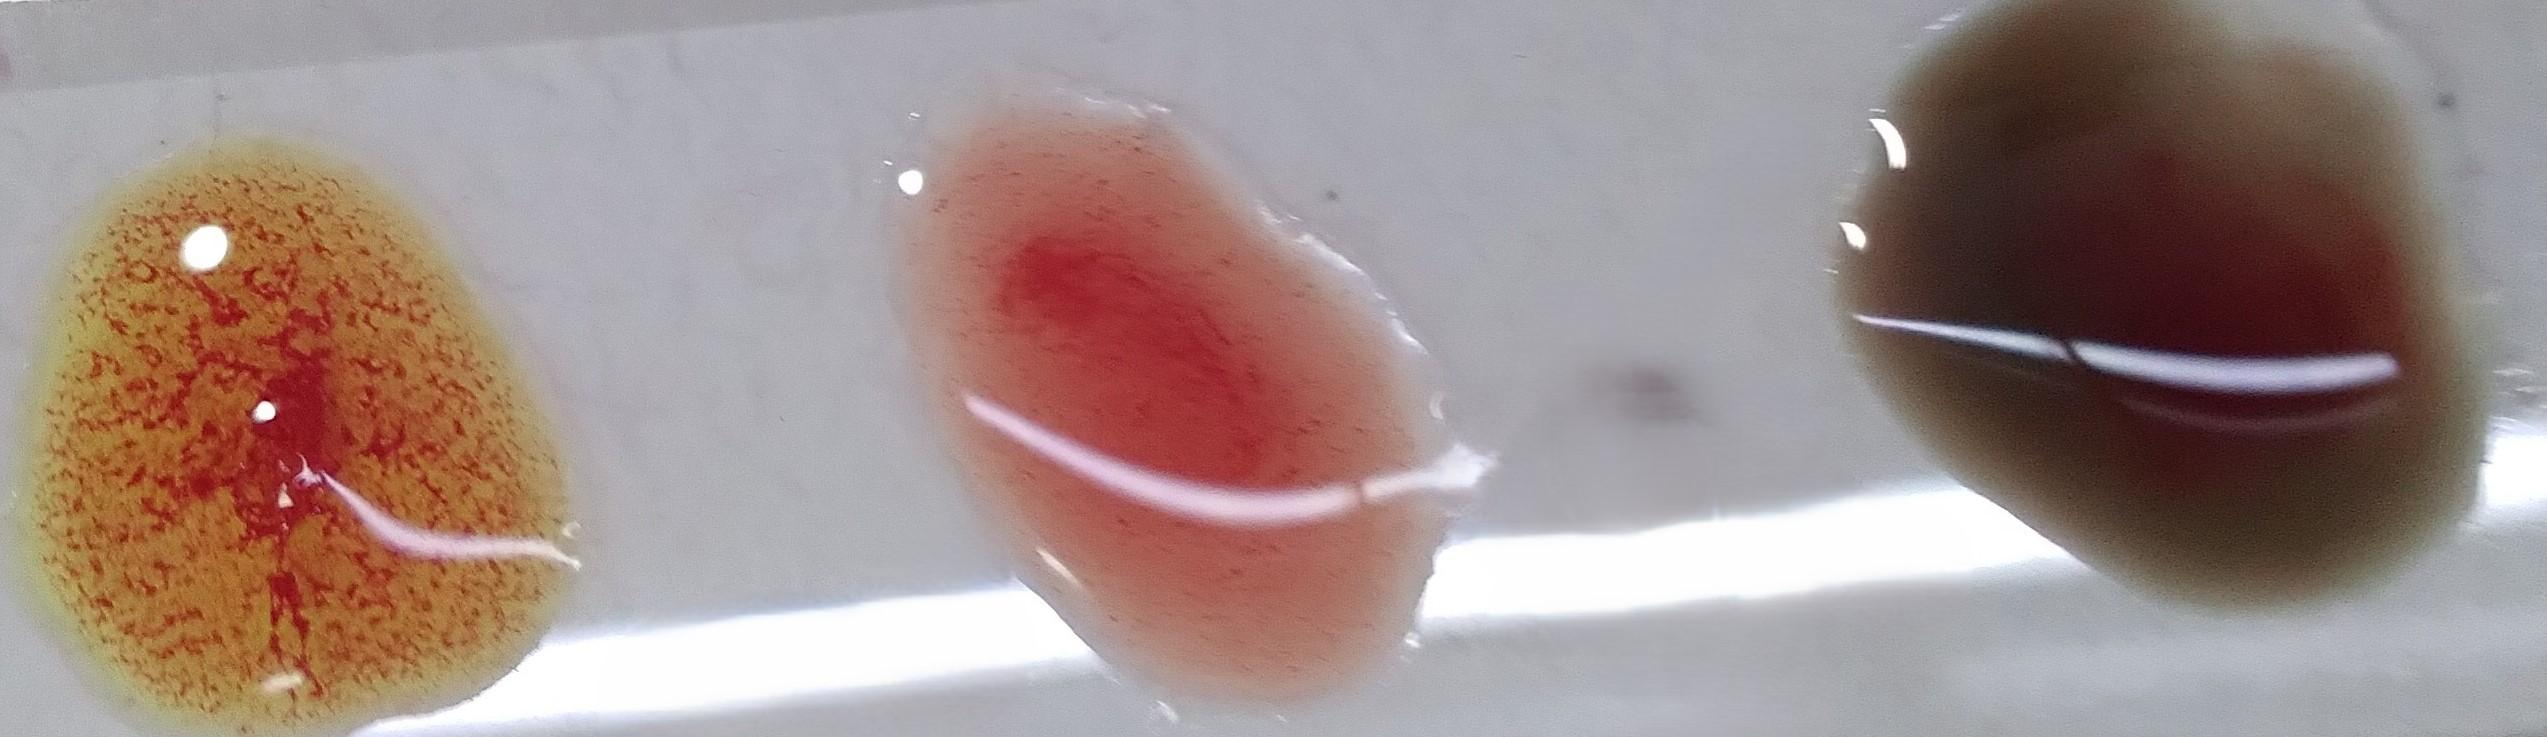B: (97, 146, 552, 705)
D: (937, 130, 1475, 713)
